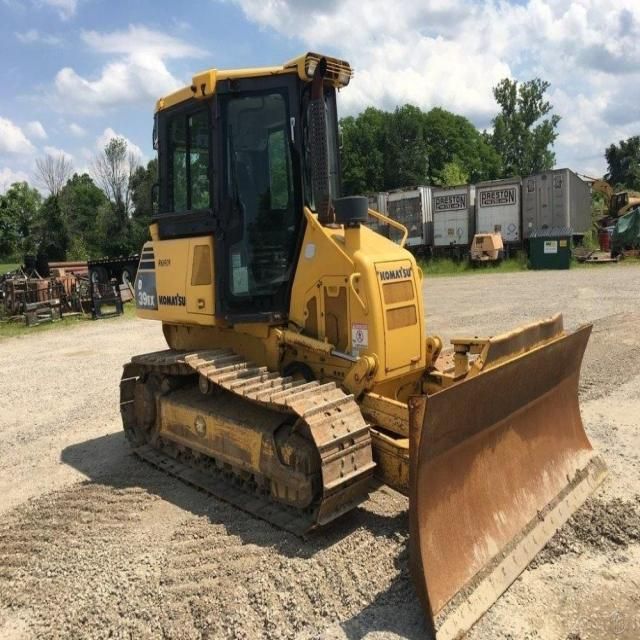buldozerpayloadergrader: (110, 48, 631, 620)
